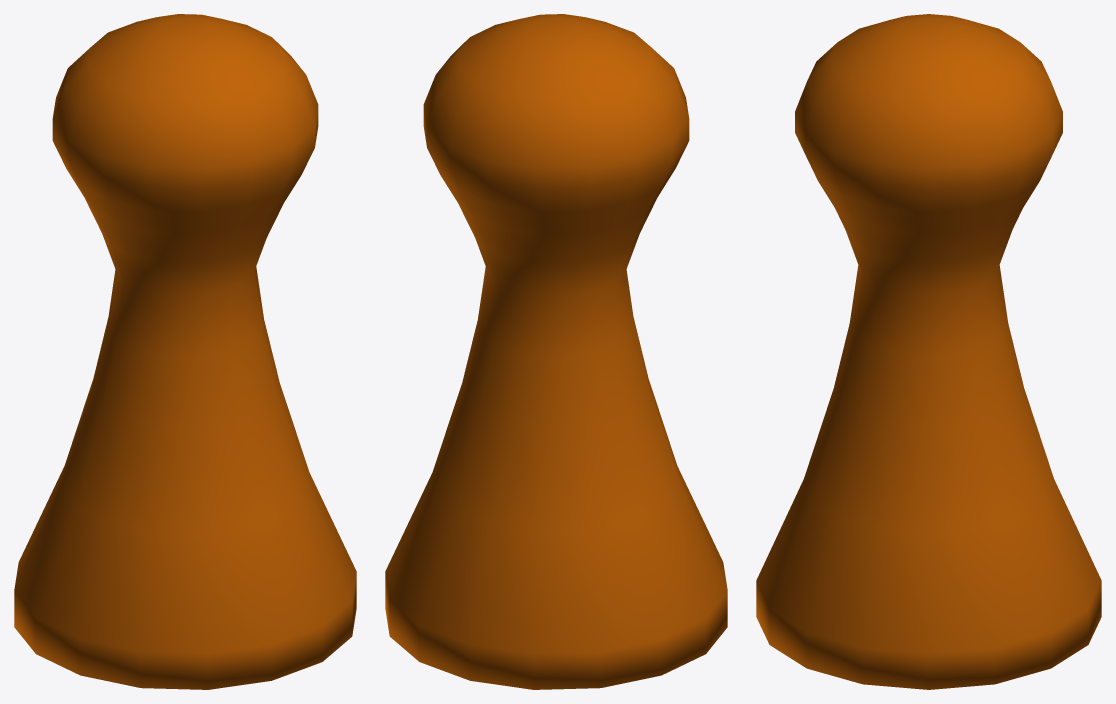
Rendered from orange.glb.
The picture shows the model from 3 angles, left to right: view 1: azimuth 30°, elevation 25°; view 2: azimuth 150°, elevation 25°; view 3: azimuth 270°, elevation 25°; orthographic projection.
Parts seen in each view (by area): view 1: YellowGameFigure2; view 2: YellowGameFigure2; view 3: YellowGameFigure2.
Boxes of the visible parts, box(x1,y1,x2,y2) form: YellowGameFigure2: box(14, 14, 356, 689); YellowGameFigure2: box(385, 14, 727, 689); YellowGameFigure2: box(756, 14, 1101, 689).
Size of the model in its own units: 2.27 by 4.25 by 2.27.
